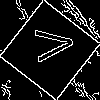V: (25, 25, 75, 64)
